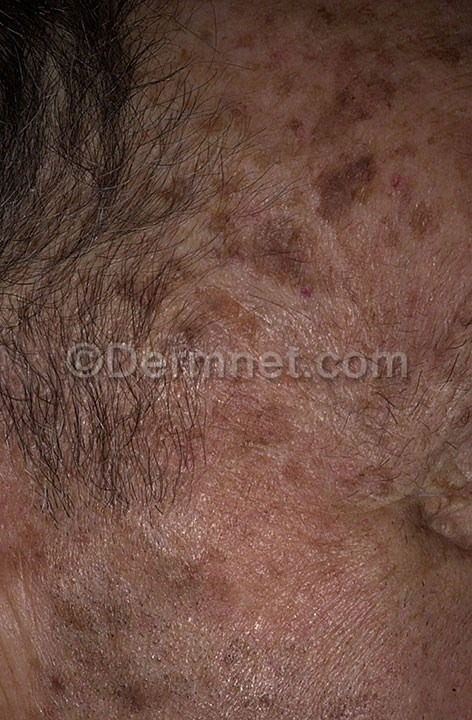Melasma: (0, 384, 243, 720), (171, 0, 271, 159)
